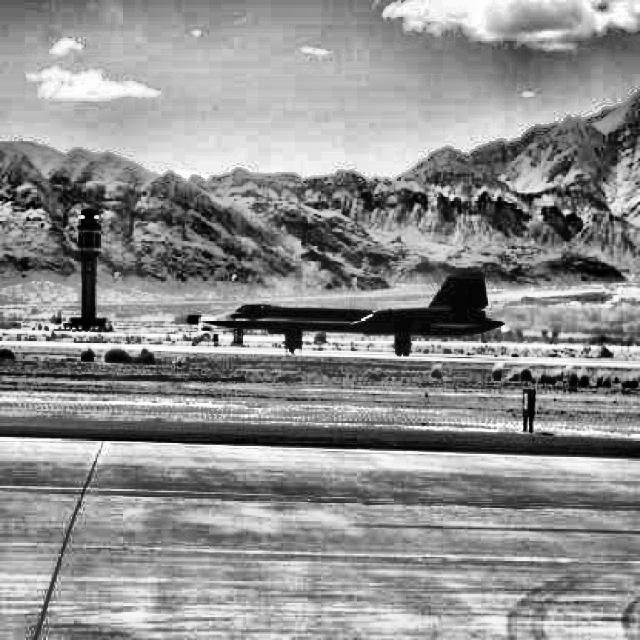SR71: (193, 272, 504, 357)
